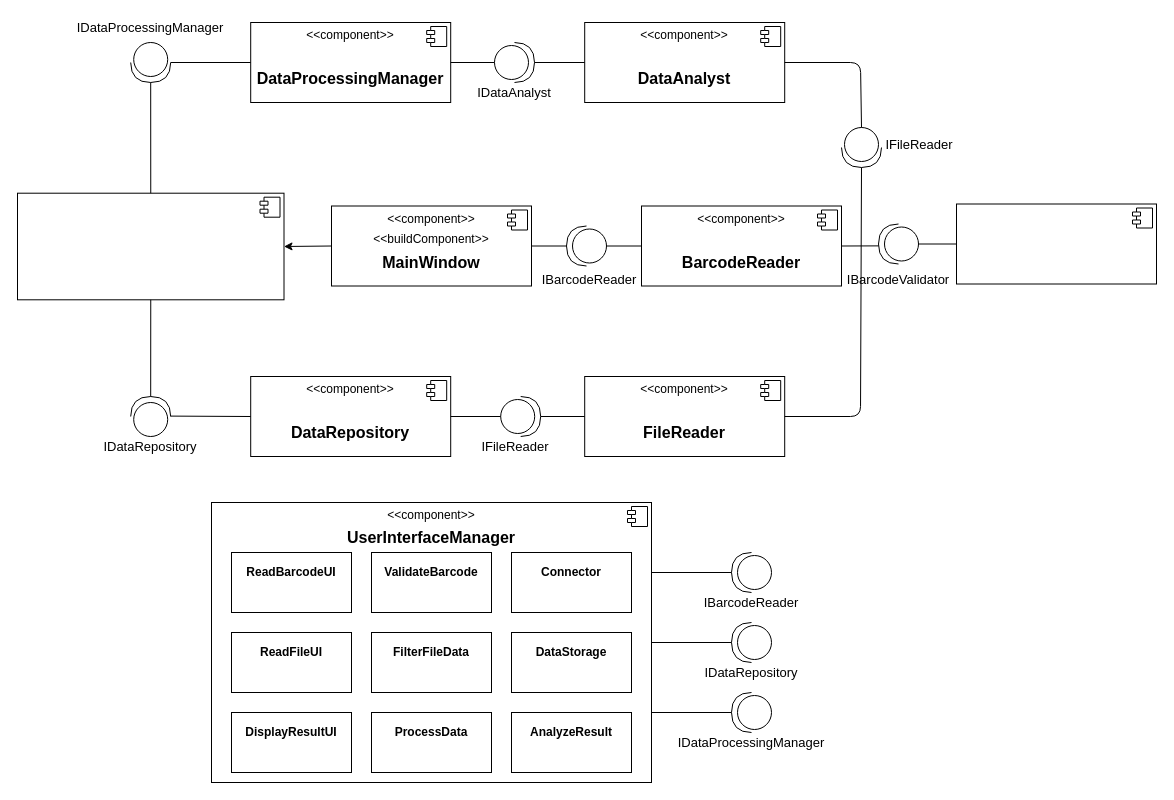
This 1174x800 diagram has some shape labels left out. Each missing label, with the centre of its shape:
<<component>> <<buildComponent>> UserInterfaceManager: pixel 150 246
<<component>> BarcodeValidator: pixel 1056 243
